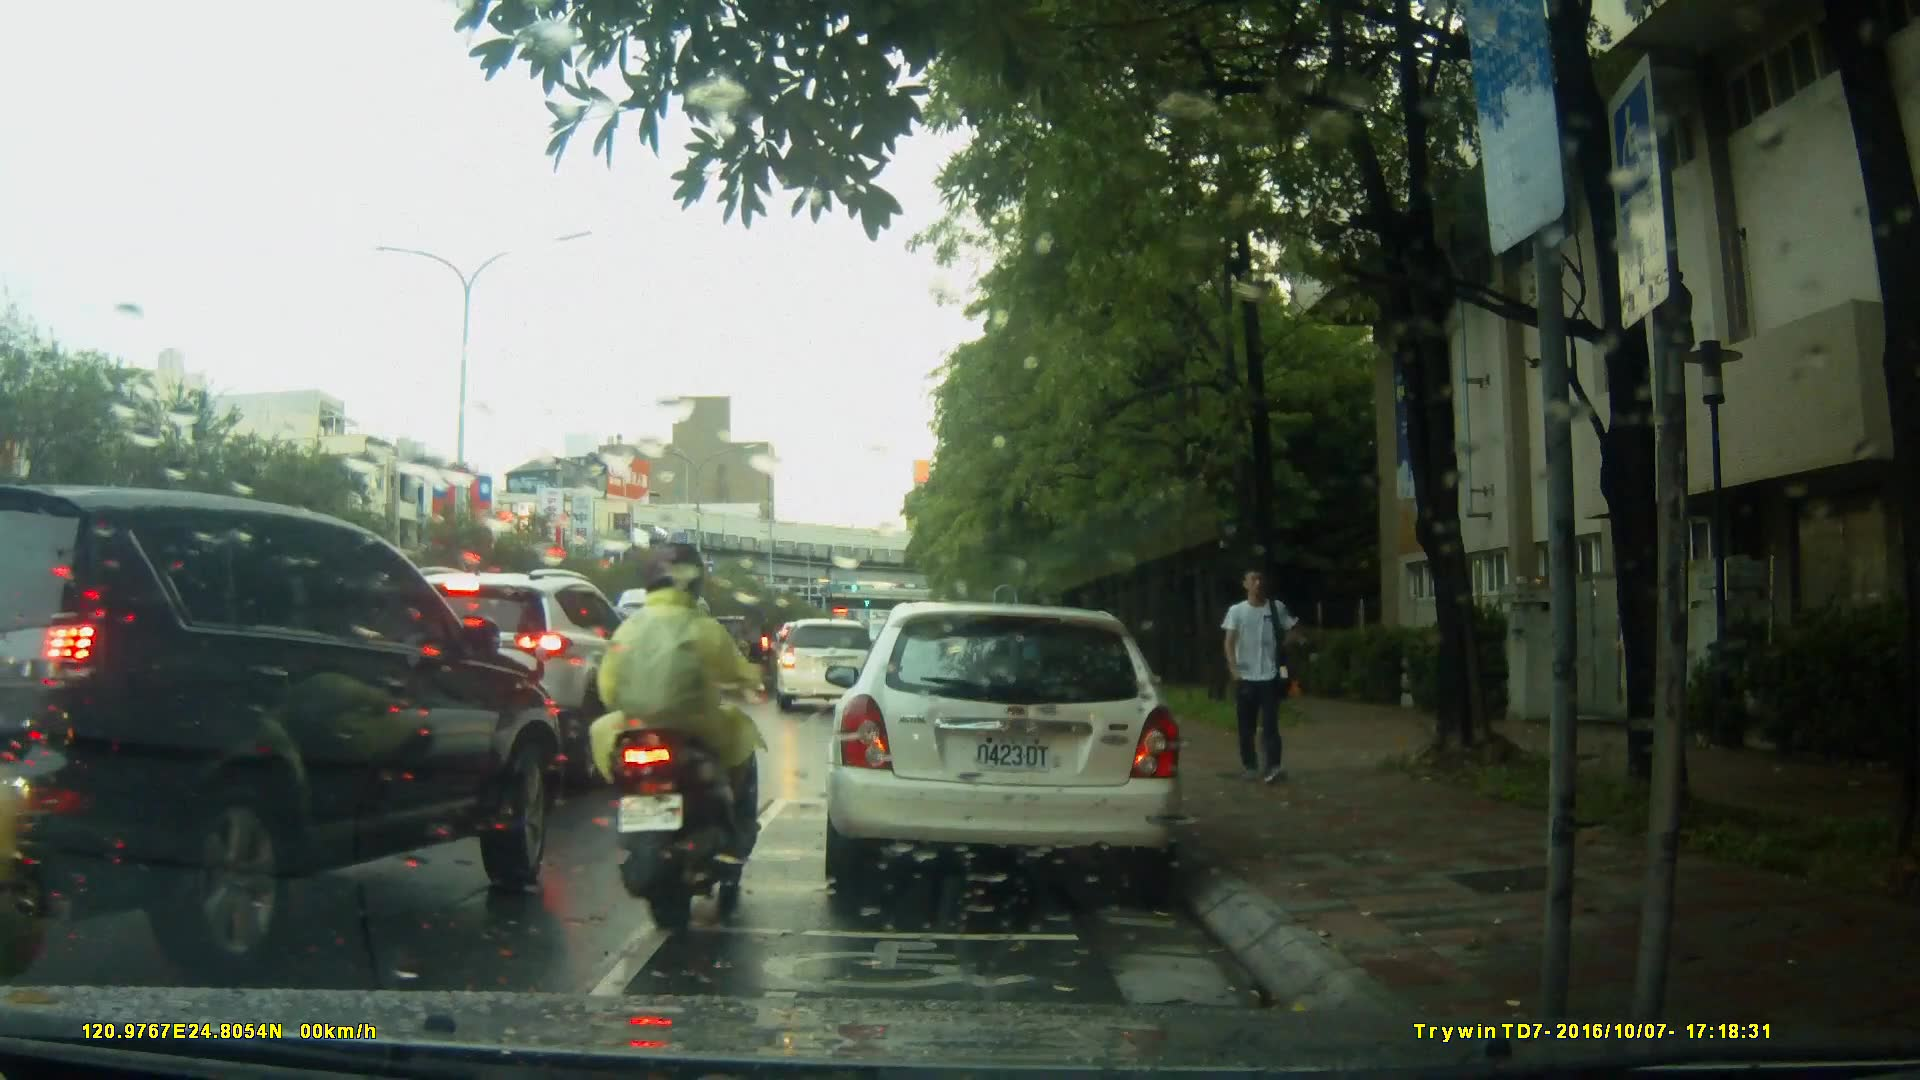pedestrian: (1216, 561, 1309, 799)
rider: (591, 544, 770, 923)
vehicle: (1, 476, 559, 980), (820, 602, 1188, 898), (355, 565, 665, 786), (608, 587, 729, 719), (771, 618, 882, 712)
